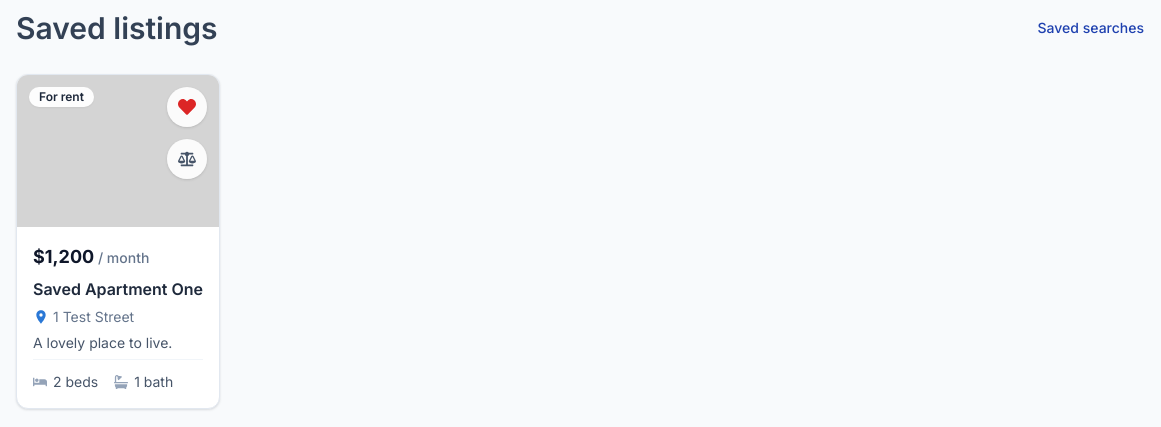
Saved page › removes a listing from the page when it is unsaved
Click the button named "Remove from saved": (187, 107) [167,87,207,127]
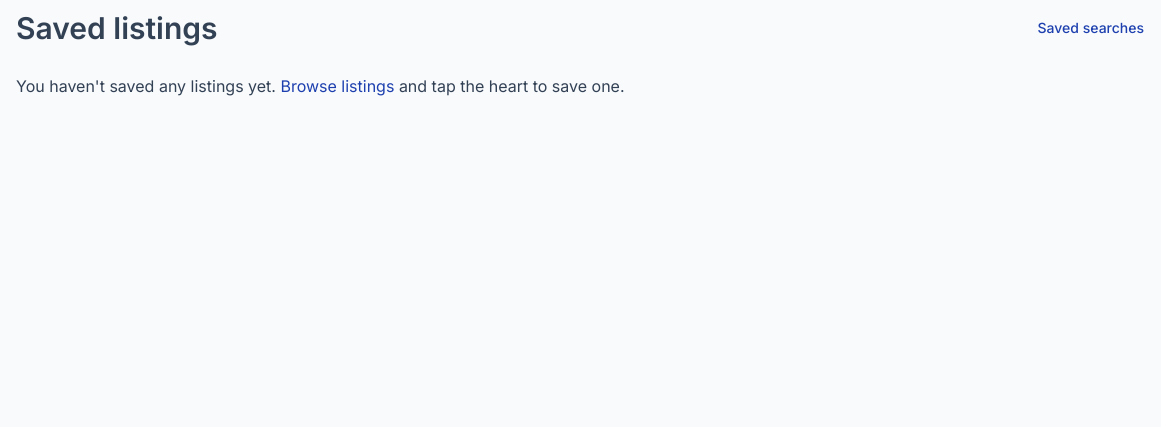
Expected: the link "Saved Apartment One" is gone
Expected: the text "haven't saved any listings" is shown, [16,76,276,96]
